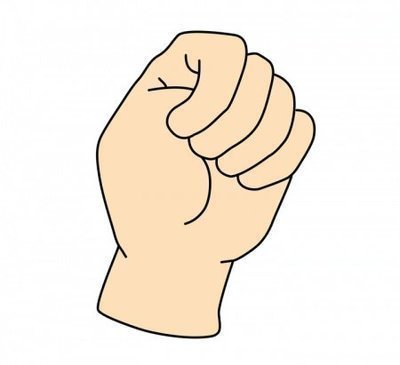closedhandfront: (69, 25, 327, 266)
